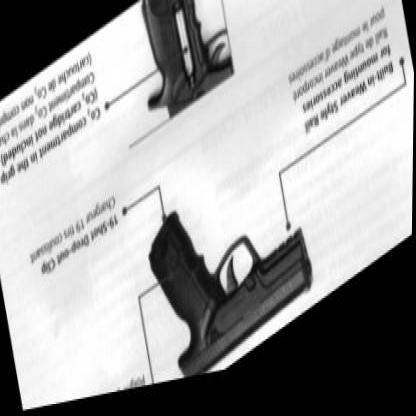pistol: (142, 132, 319, 390)
